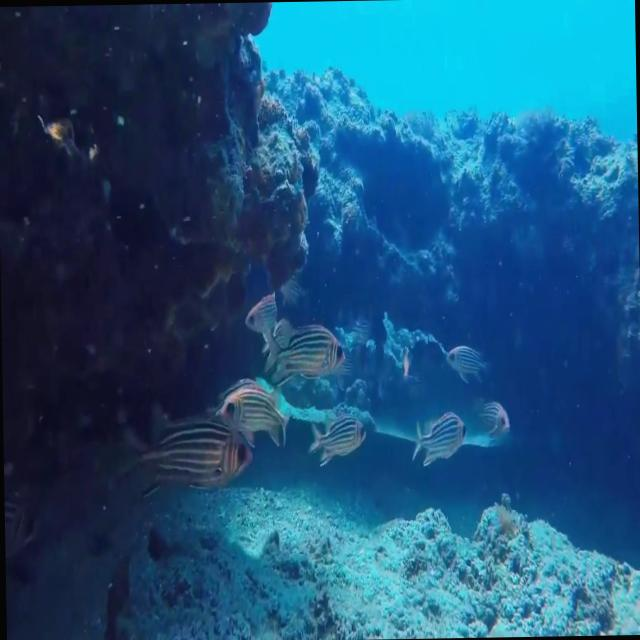Asker Baligi: (113, 415, 256, 499), (269, 318, 346, 384), (404, 404, 470, 464), (301, 409, 369, 462), (442, 338, 496, 389), (468, 390, 510, 439)
